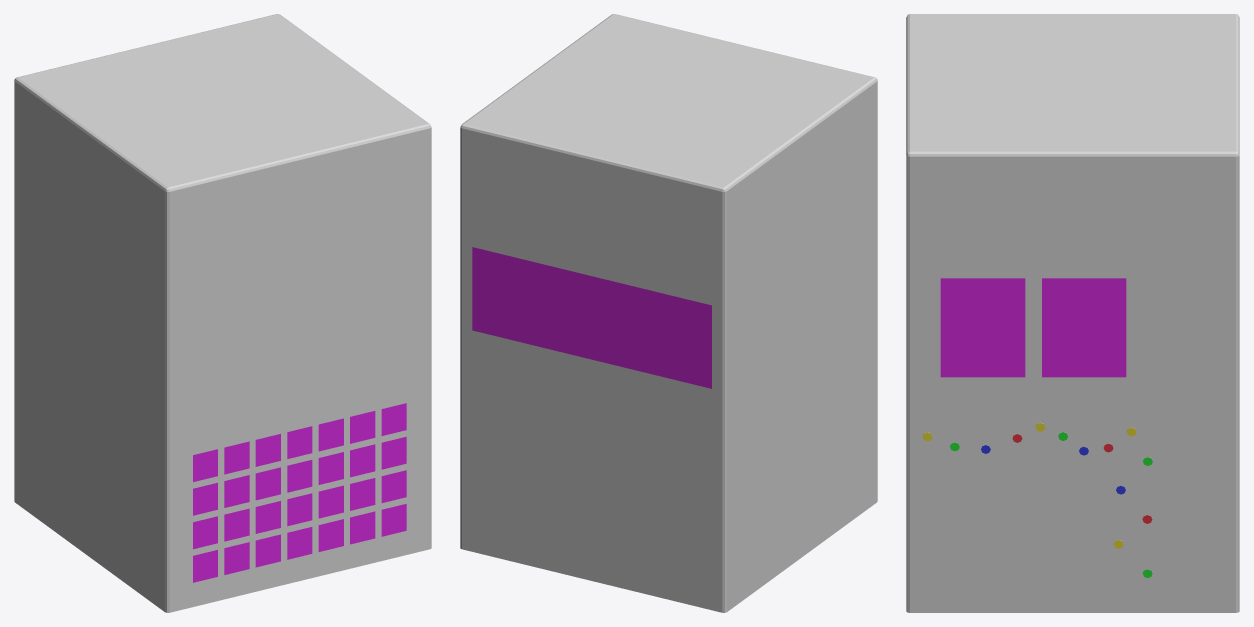
File: fleuriste.fbx
3 views of the same model, side by side, from view 1: azimuth 30°, elevation 25°; view 2: azimuth 150°, elevation 25°; view 3: azimuth 270°, elevation 25° (orthographic). The views are drawn at different scales.
Parts seen in each view (by area): view 1: Cube; view 2: Cube; view 3: Cube.
Part boxes in pixels (left/top/right/bottom): Cube: left=14, top=14, right=431, bottom=612; Cube: left=460, top=14, right=877, bottom=612; Cube: left=906, top=14, right=1239, bottom=612.
Size of the model in its own units: 6.01 by 6 by 9.13.
